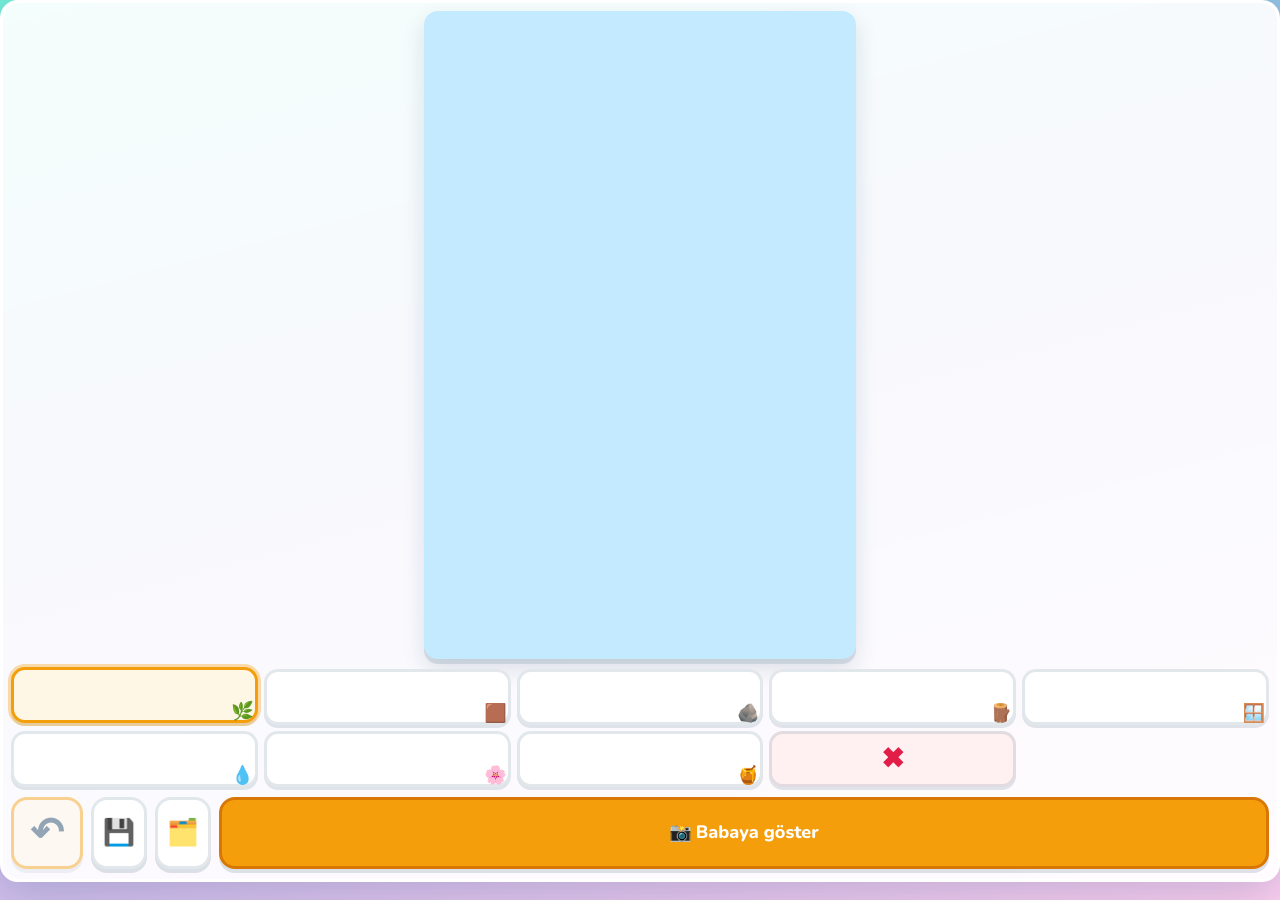
Test: BlockWorld › çekmece: yeni dünya, yuvaya kaydet ve geri yükle
Later steps or results of the test are not shown.
Press the mouse on the picture with class "blk-canvas" at (640, 335), box [424, 11, 856, 659]
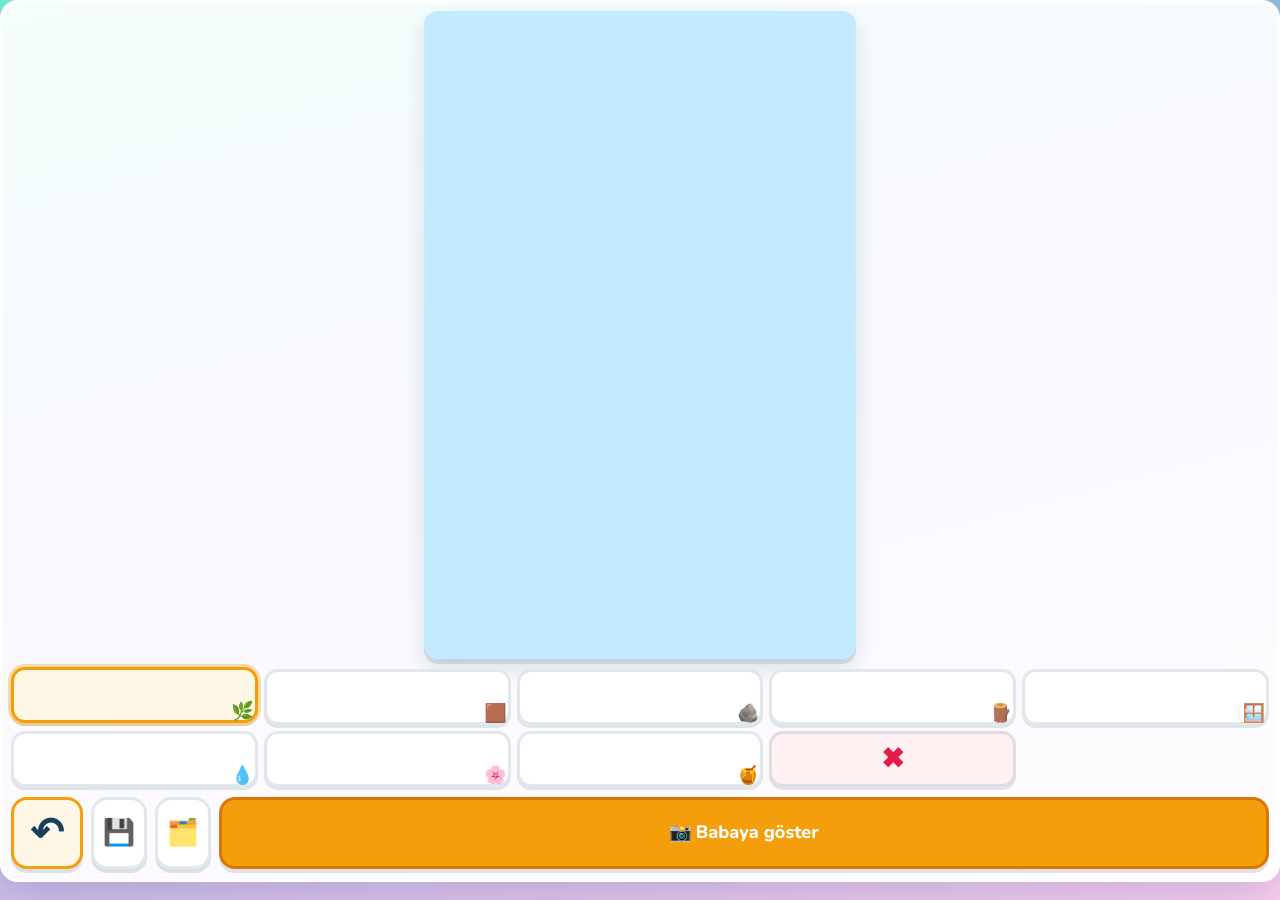
Click the button named "Dünyalarım" at (183, 833), box [155, 797, 211, 869]
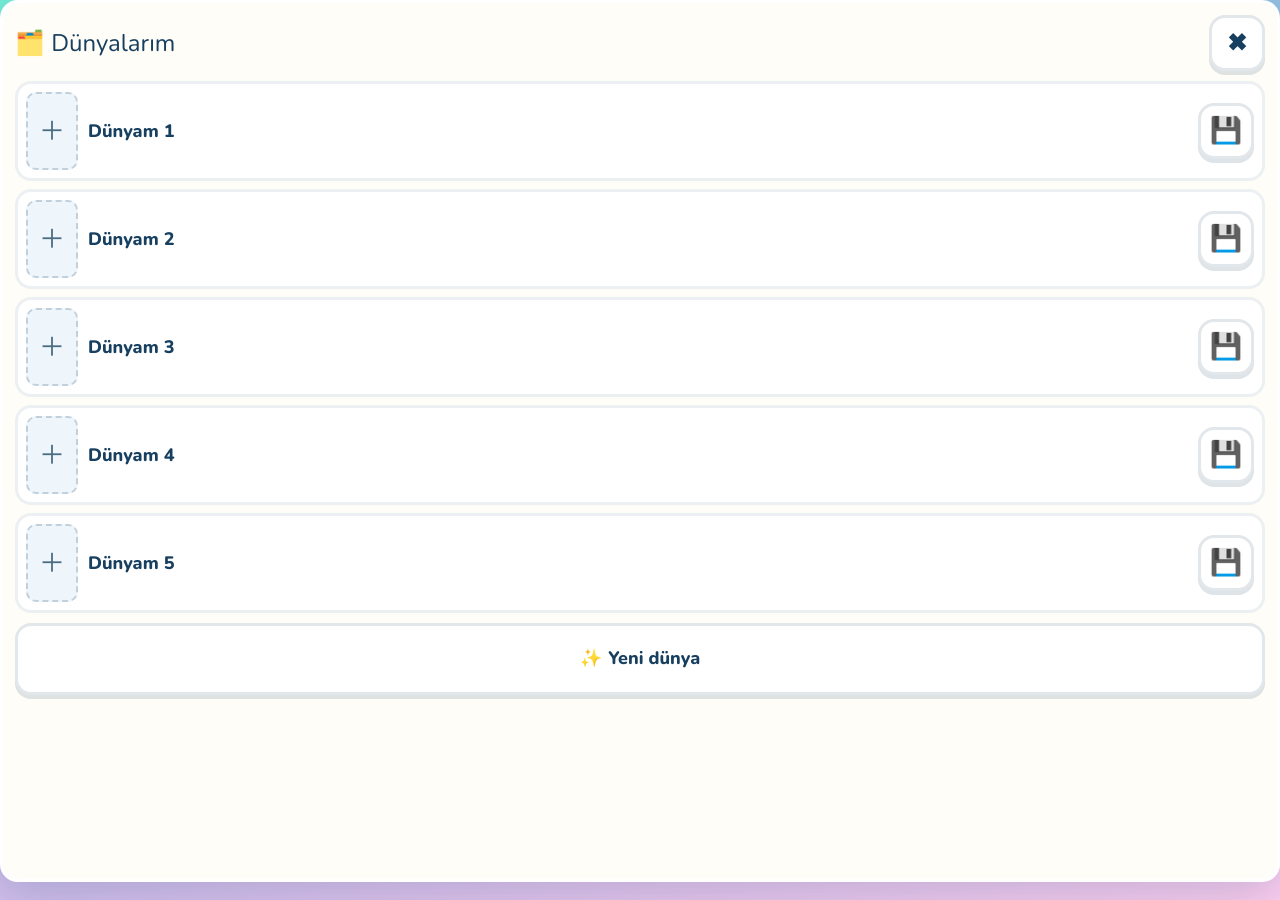
Expected: the dialog is shown
Click the button named "Dünyam 3 yuvasına kaydet" at (1226, 347), box [1198, 319, 1254, 375]
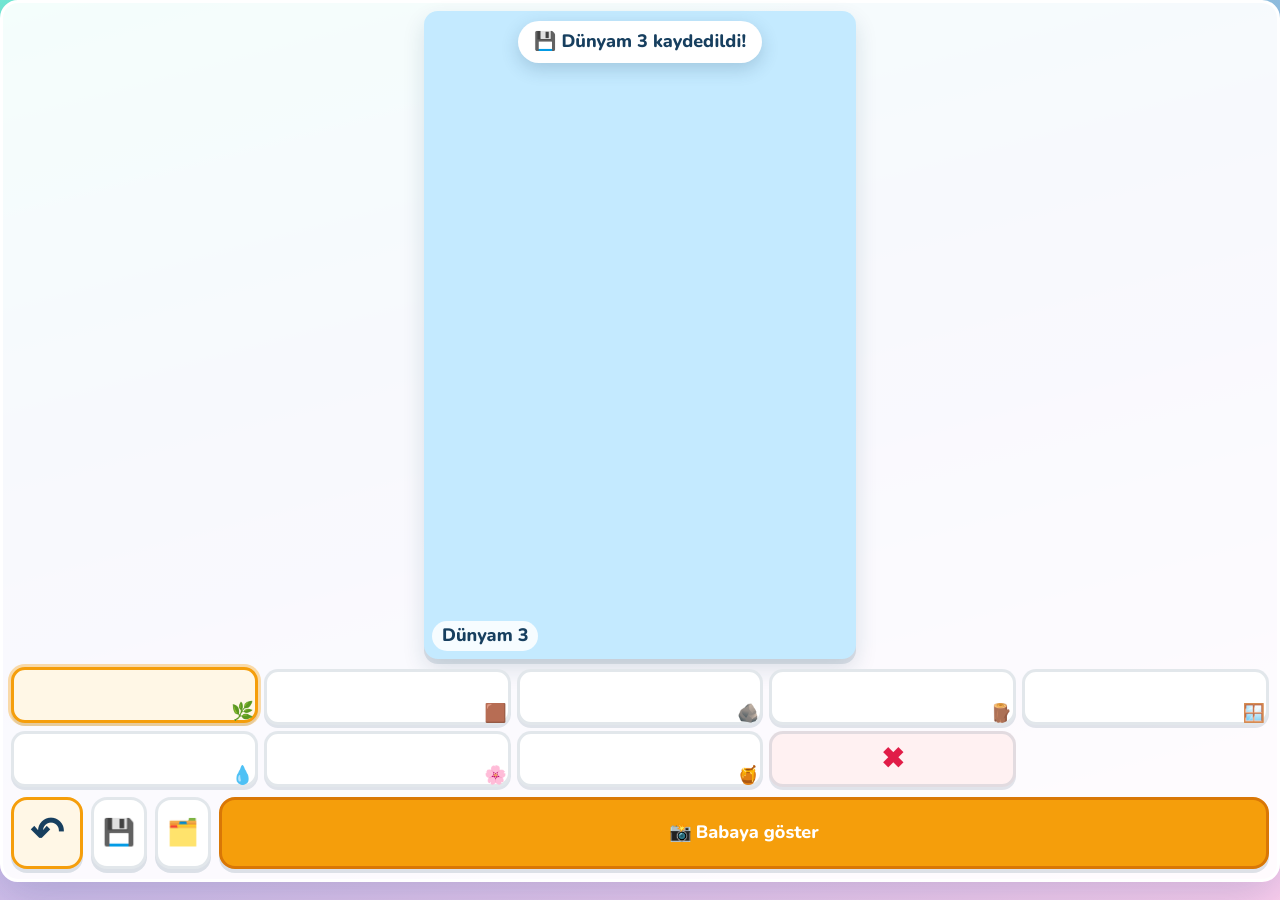
Expected: the dialog is gone
